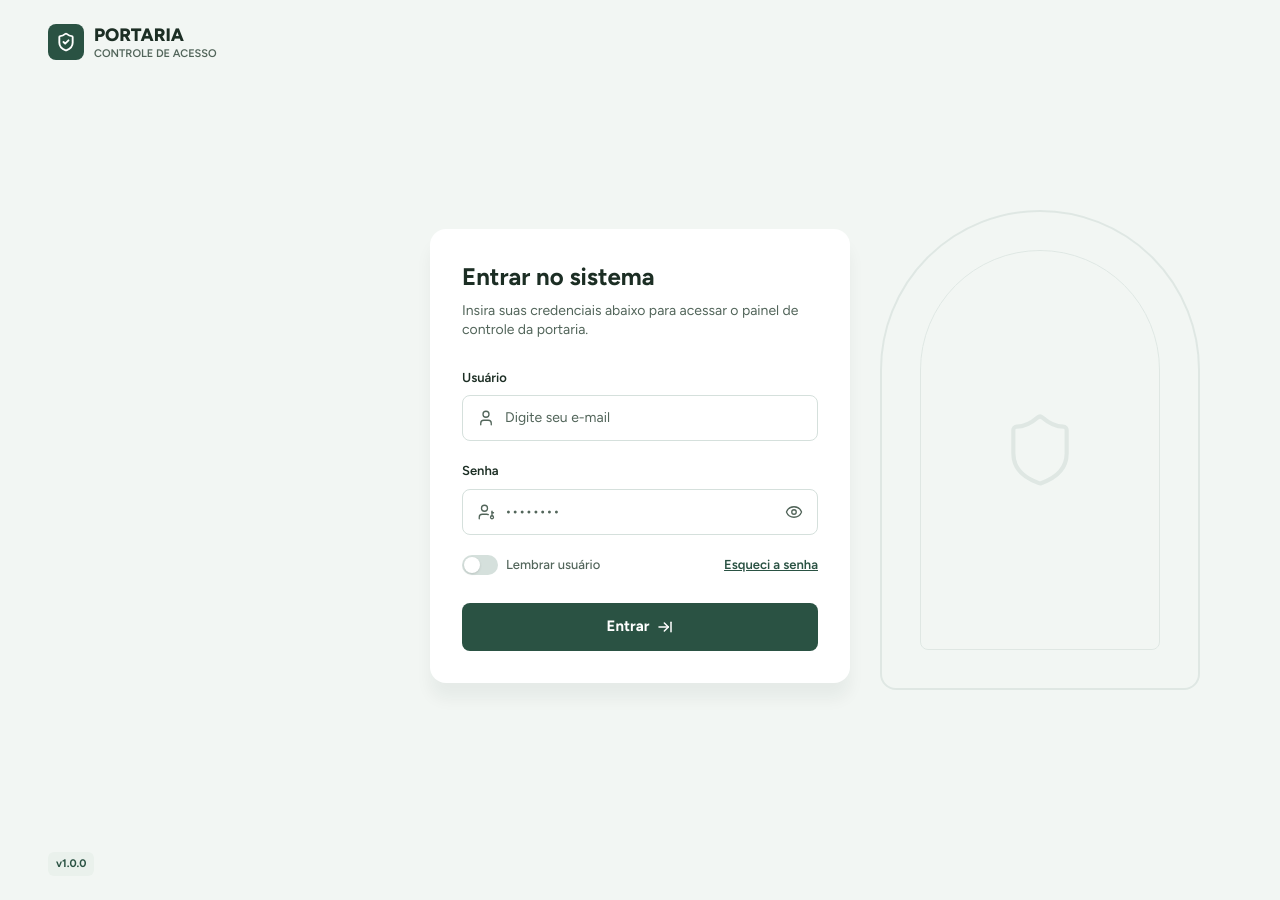
Test: LoginPage › cai no fallback genérico quando o erro não tem mensagem do backend
Step 1. Type "admin@empresa.com" into the field labelled "Usuário" → (654, 418), box [505, 408, 803, 428]
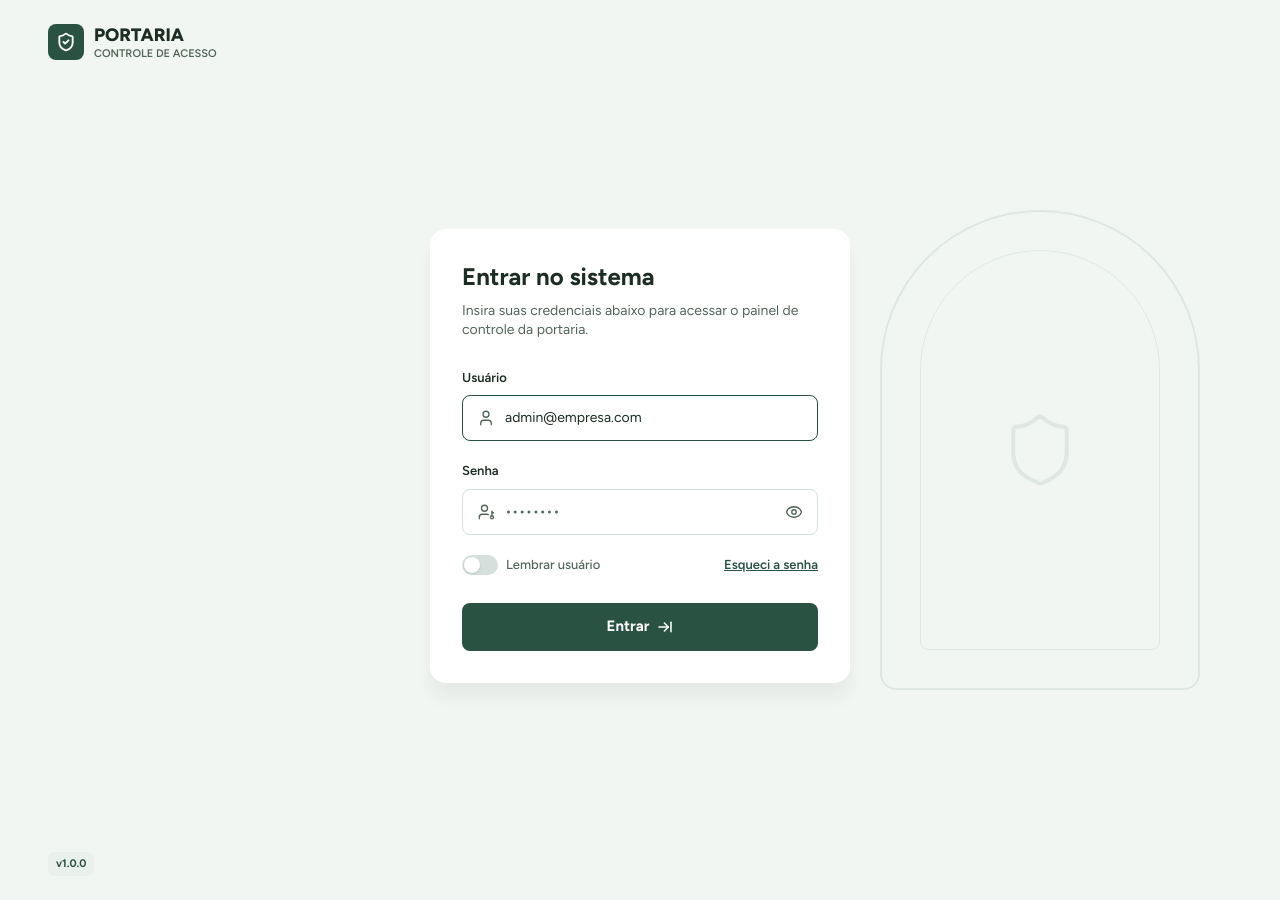
Step 2. Type "errada" into the password field labelled "Senha" → (640, 512), box [505, 502, 775, 522]
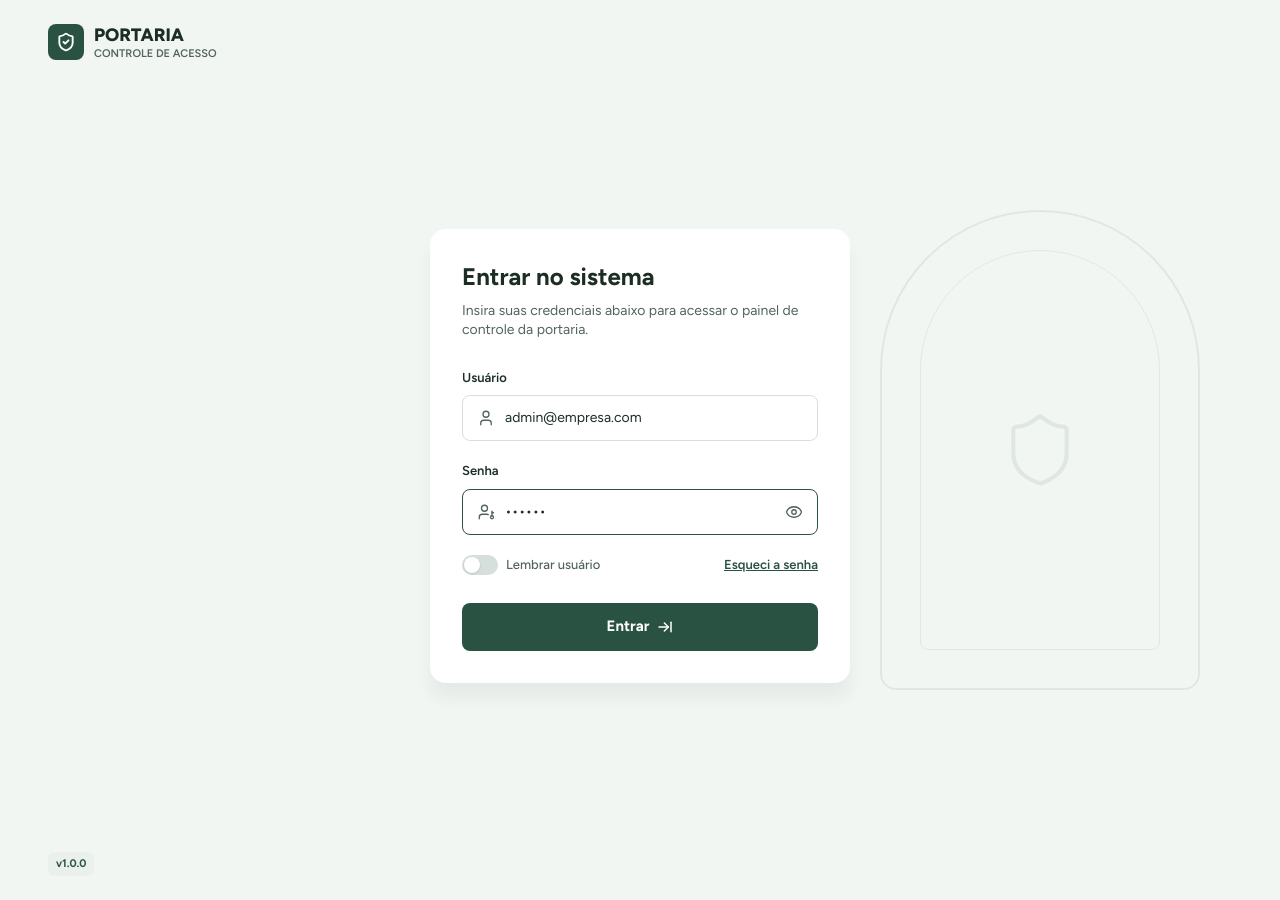
Step 3. Click the button "Entrar" → (640, 627), box [462, 603, 818, 651]
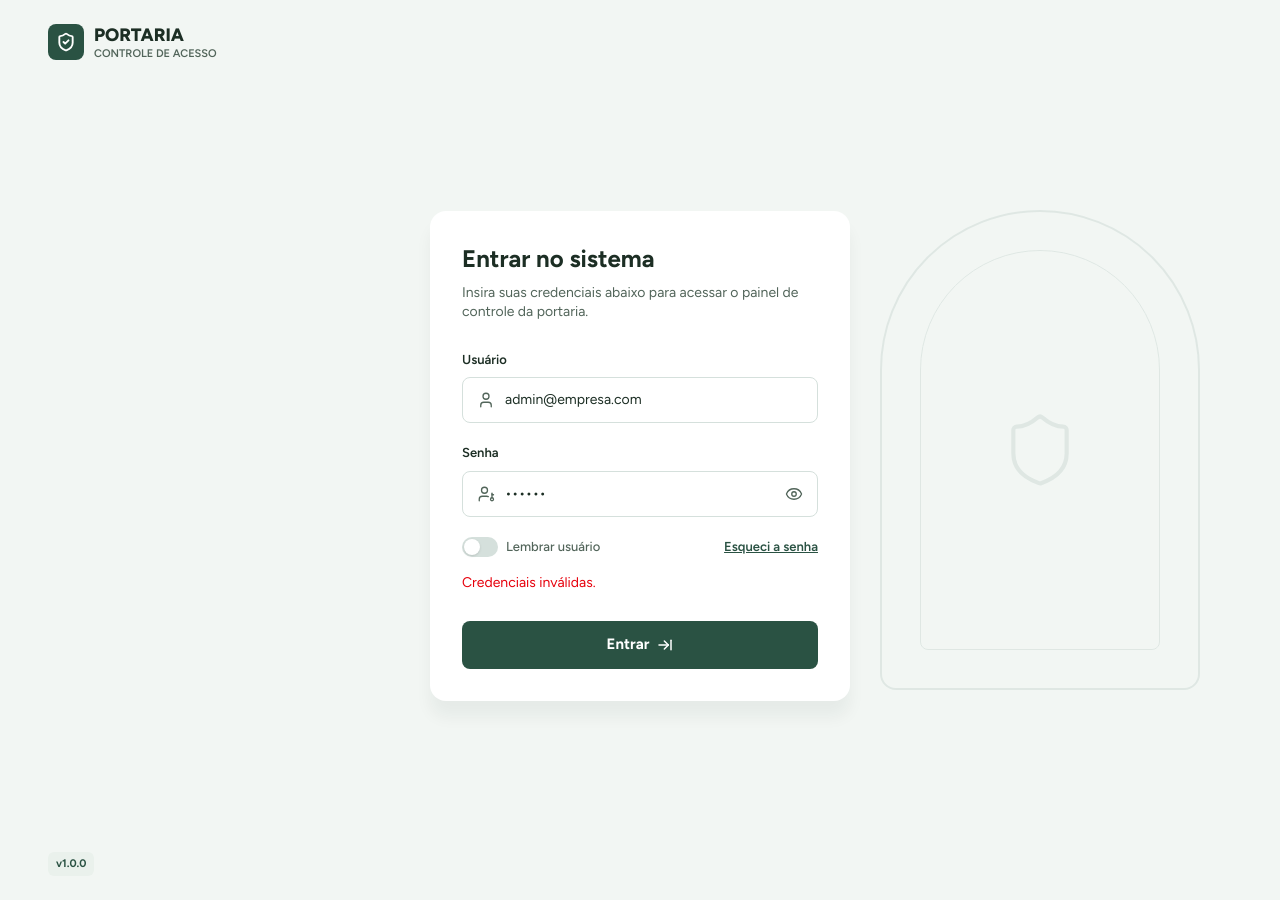
Result: the text "Credenciais inválidas." is shown at [462, 574, 596, 591]
